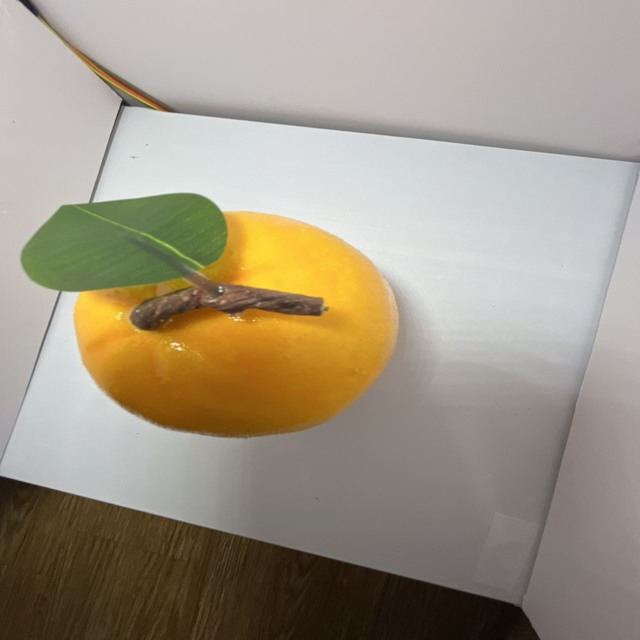Cam vang: (75, 198, 398, 442)
